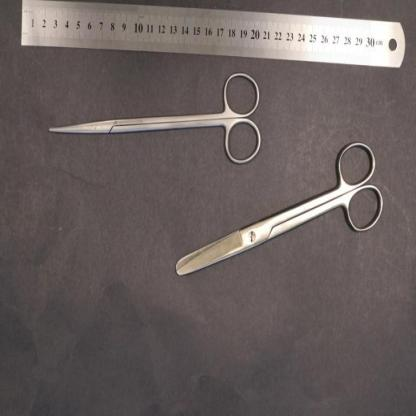7 Metzenbaum Scissors: (49, 70, 263, 166)
Dressing Scissors: (176, 140, 384, 276)
